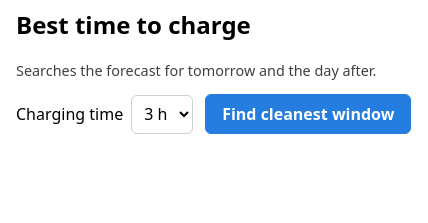
Test: ChargingWindowForm › requests selected hours and shows window in UK time
Select "2 h" in the dropdown labelled "Charging time" at coordinates (162, 114), box [131,95,193,134]
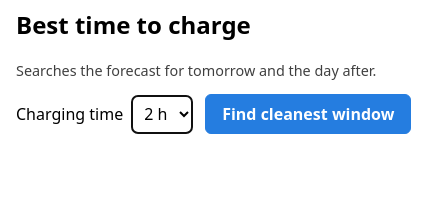
Click the button "Find cleanest window" at coordinates (308, 114), box [205,94,411,134]
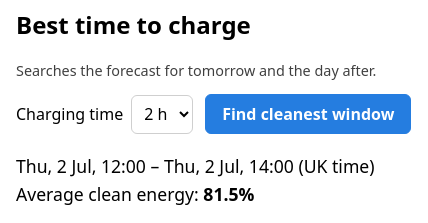
Result: the text "81.5%" is shown at [203,182,254,206]
